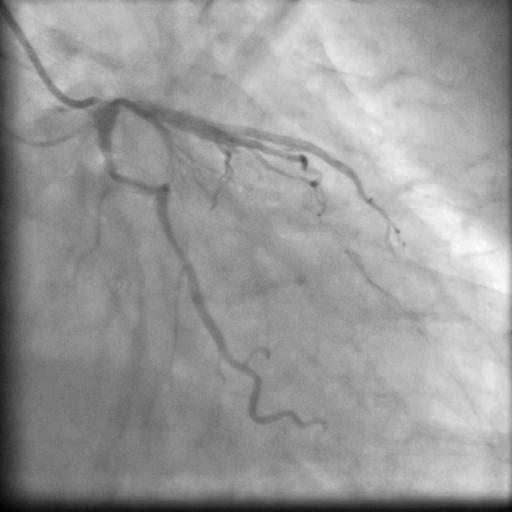Stenosis: (123, 170, 161, 194)
